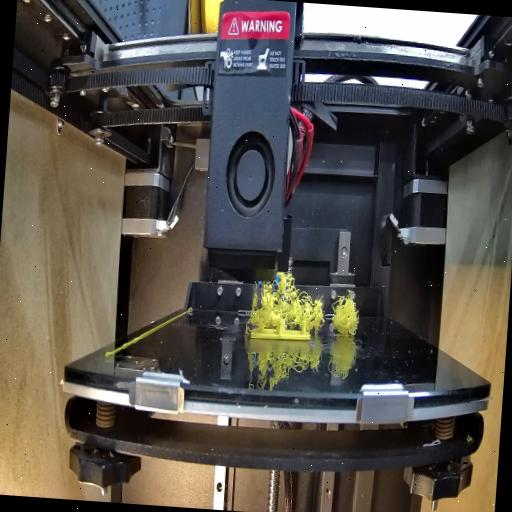spaghetti: (246, 264, 365, 334)
